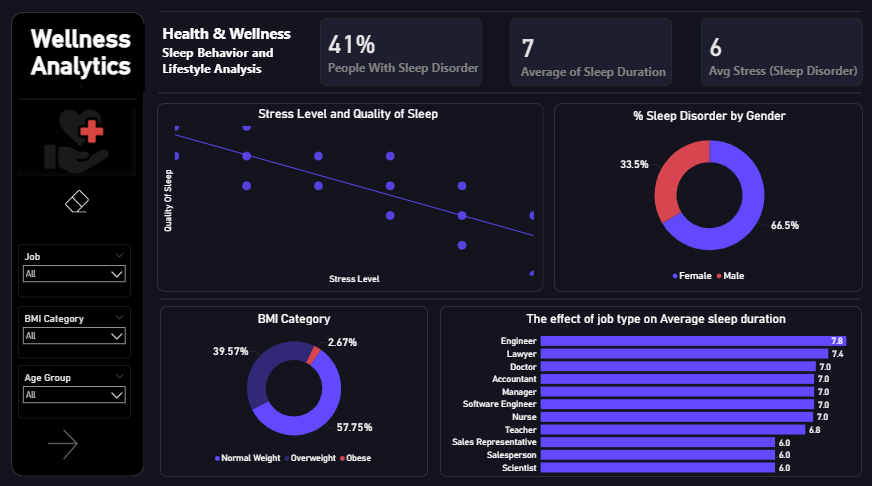

What the dashboard file says about the page in this screenshot:
{"tool":"powerbi","page":{"name":"Page 1","canvas":[1920,1080],"ordinal":0},"visuals":[{"type":"shape","box":[38,40.7,288.4,1003.4],"z":0},{"type":"shape","box":[360.7,676.1,578.9,369.4],"z":1000},{"type":"shape","box":[357.5,13,1516.3,54],"z":2000},{"type":"shape","box":[965.5,676.1,911.5,369.4],"z":3000},{"type":"textbox","box":[360.7,43.2,559.4,159.8],"z":4000},{"type":"shape","box":[1528.7,54,349.9,146.9],"z":5000},{"type":"shape","box":[358.6,635,1516.3,51.8],"z":6000},{"type":"shape","box":[1117.5,54,349.9,146.9],"z":7000},{"type":"cardVisual","fields":{"Data":["Health Care.Avg Stress (Sleep Disorder)"]},"box":[1529.3,67,380.2,125.3],"z":8000},{"type":"shape","box":[355.3,153.4,1520.6,125.3],"z":9000},{"type":"shape","box":[54,194.4,257,69.1],"z":10000},{"type":"slicer","fields":{"Values":["Health Care.Age Group"]},"box":[54.2,802.5,242.5,115],"z":11000},{"type":"slicer","fields":{"Values":["Health Care.Job"]},"box":[54.2,542.5,242.5,115],"z":12000},{"type":"slicer","fields":{"Values":["Health Care.BMI Category"]},"box":[54.2,675,242.5,112.5],"z":13000},{"type":"image","box":[110.2,395.3,142.6,108],"z":14000},{"type":"textbox","title":"Wellness  Analytics","box":[51.8,67,276.5,146.9],"z":15000},{"type":"image","box":[51.8,246.2,257,149],"z":16000},{"type":"cardVisual","fields":{"Data":["Avg(Health Care.Sleep Duration)"]},"box":[1123.2,69.1,358.6,125.3],"z":17000},{"type":"shape","box":[706.3,54,349.9,146.9],"z":18000},{"type":"cardVisual","fields":{"Data":["Health Care.% With Sleep Disorder"]},"box":[706.3,60.5,386.6,131.8],"z":19000},{"type":"shape","box":[355,237.5,835,407.5],"z":20000},{"type":"scatterChart","fields":{"X":["Health Care.Stress Level"],"Y":["Health Care.Quality of Sleep"]},"box":[360,245,812.5,390],"z":21000},{"type":"donutChart","title":" BMI Category  ","fields":{"Category":["Health Care.BMI Category"],"Y":["CountNonNull(Health Care.Person ID)"]},"box":[380.2,686.9,540,341.3],"z":22000},{"type":"shape","box":[1211.8,237.6,667.4,408],"z":23000},{"type":"barChart","title":"The effect of job type on Average sleep duration","fields":{"Category":["Health Care.Job"],"Y":["Avg(Health Care.Sleep Duration)"]},"box":[985,687.5,895,365],"z":24000},{"type":"donutChart","title":"% Sleep Disorder by Gender","fields":{"Category":["Health Care.Gender"],"Y":["CountNonNull(Health Care.Person ID)"]},"box":[1216.1,248.4,663.1,386.6],"z":25000},{"type":"actionButton","box":[110,935,80,80],"z":26000}]}

Visuals, with their boxes in screenshot pixels (x1, y1, x2, y2), scaled from the page's 1920x1080 canvas onto the 872x486 screenshot:
shape: 17, 18, 148, 470
shape: 164, 304, 427, 470
shape: 162, 6, 851, 30
shape: 438, 304, 852, 470
textbox: 164, 19, 418, 91
shape: 694, 24, 853, 90
shape: 163, 286, 852, 309
shape: 508, 24, 666, 90
cardVisual - Health Care.Avg Stress (Sleep Disorder): 695, 30, 867, 87
shape: 161, 69, 852, 125
shape: 25, 87, 141, 119
slicer - Health Care.Age Group: 25, 361, 135, 413
slicer - Health Care.Job: 25, 244, 135, 296
slicer - Health Care.BMI Category: 25, 304, 135, 354
image: 50, 178, 115, 226
"Wellness  Analytics" textbox: 24, 30, 149, 96
image: 24, 111, 140, 178
cardVisual - Avg(Health Care.Sleep Duration): 510, 31, 673, 87
shape: 321, 24, 480, 90
cardVisual - Health Care.% With Sleep Disorder: 321, 27, 496, 87
shape: 161, 107, 540, 290
scatterChart - Health Care.Stress Level x Health Care.Quality of Sleep: 164, 110, 533, 286
" BMI Category  " donutChart: 173, 309, 418, 463
shape: 550, 107, 853, 291
"The effect of job type on Average sleep duration" barChart: 447, 309, 854, 474
"% Sleep Disorder by Gender" donutChart: 552, 112, 853, 286
actionButton: 50, 421, 86, 457
